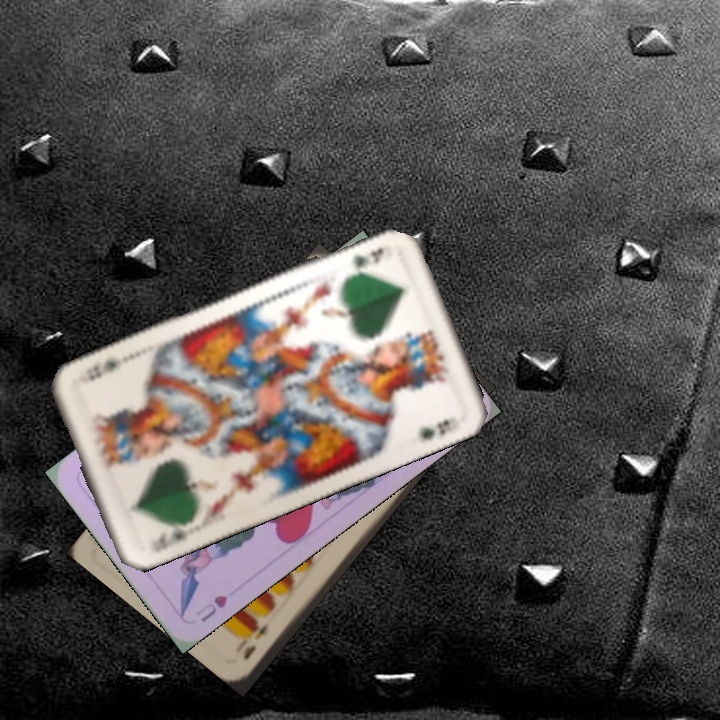E10: (239, 618, 273, 663)
GK: (348, 243, 388, 270), (154, 529, 184, 554)
HU: (192, 591, 230, 625)
